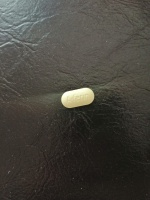Aferin: (59, 87, 96, 109)
